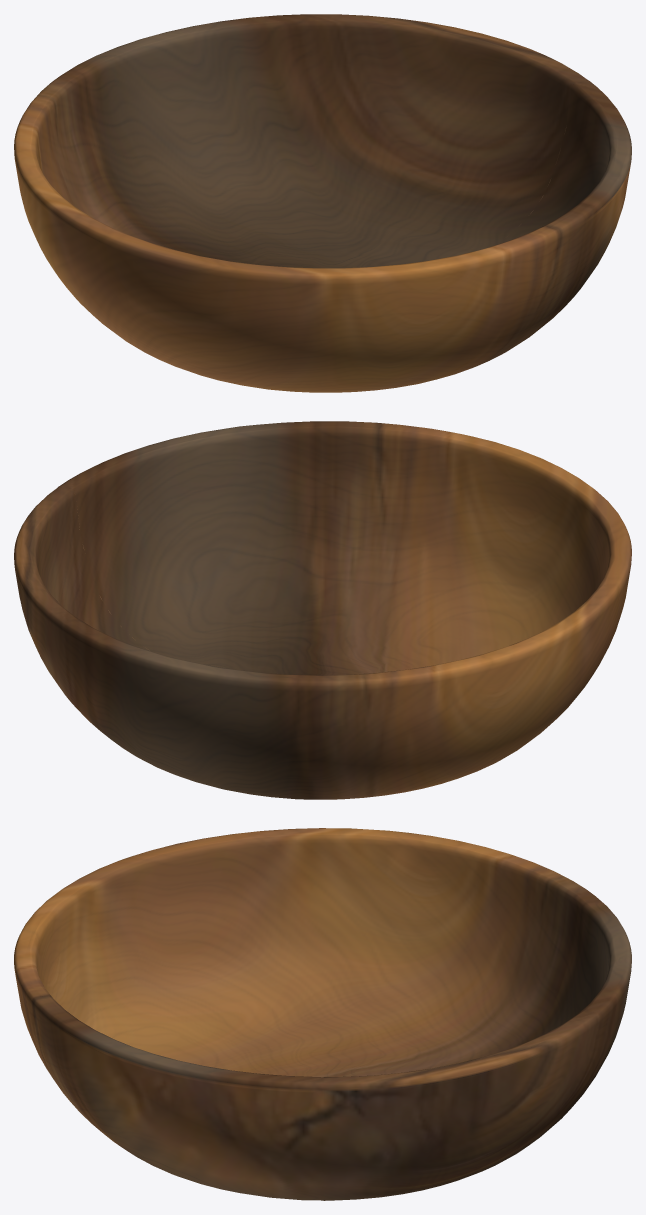
3 views of the same model, one above another, from view 1: azimuth 30°, elevation 25°; view 2: azimuth 150°, elevation 25°; view 3: azimuth 270°, elevation 25° (orthographic).
Visible parts, largest first — view 1: bowl_1__body; view 2: bowl_1__body; view 3: bowl_1__body.
Part boxes in pixels (box(x1,y1,x2,y2)): bowl_1__body: box(14, 14, 631, 392); bowl_1__body: box(14, 421, 631, 799); bowl_1__body: box(14, 828, 631, 1200).
Bounding box in the file's own units: 0.2782 × 0.0891 × 0.282.
Materials: 1 (1 with a texture image).
